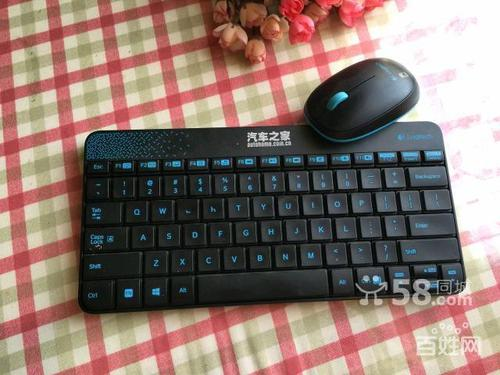keyboard: (80, 122, 468, 313)
mouse: (303, 58, 422, 145)
